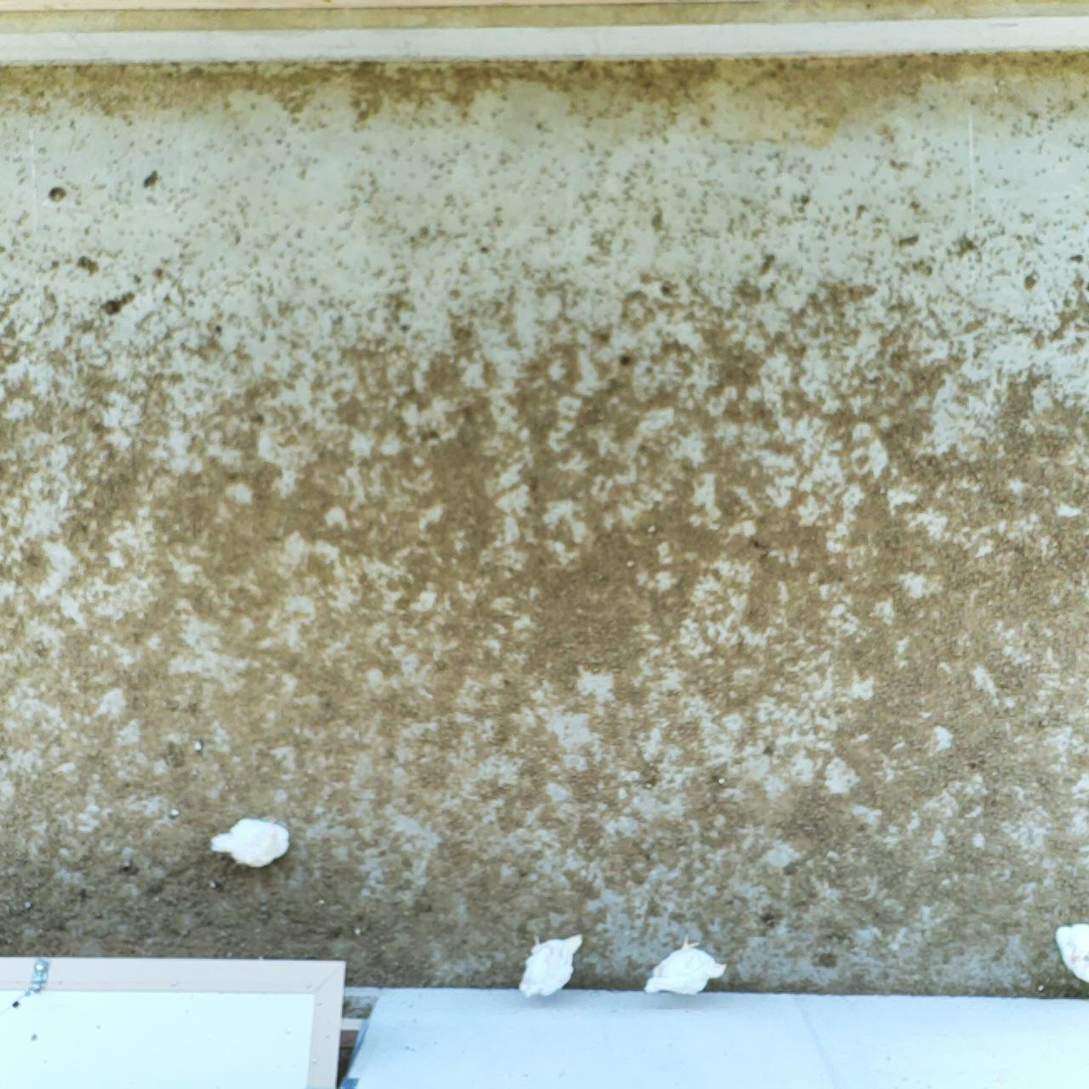chicken: (644, 933, 729, 997), (518, 933, 585, 999), (211, 817, 291, 868), (1056, 923, 1089, 987)
